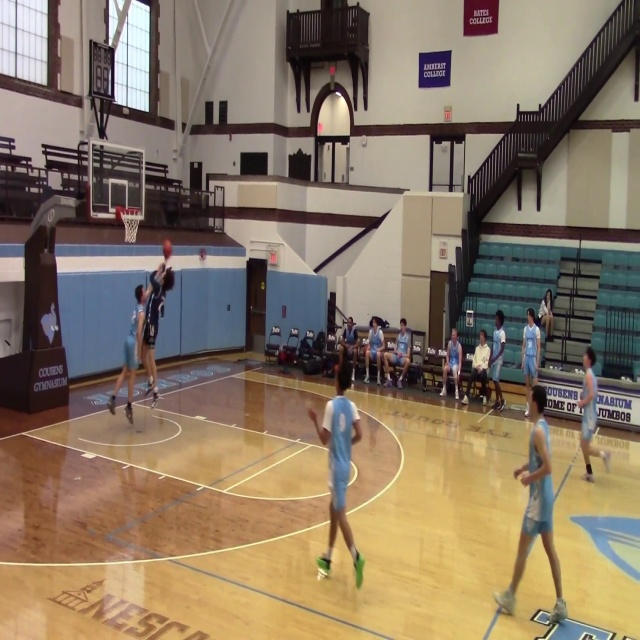Basketball: (163, 239, 172, 258), (199, 248, 206, 260)
